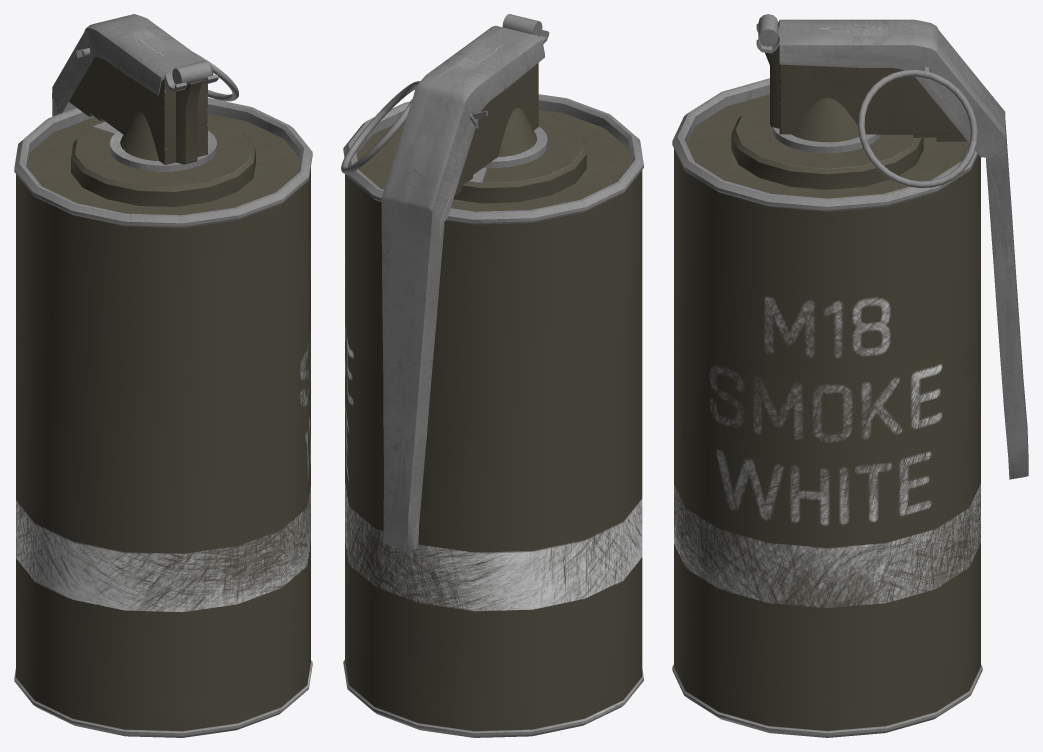
Rendered from smoke_grenade.glb.
3 views of the same model, side by side, from view 1: azimuth 30°, elevation 25°; view 2: azimuth 150°, elevation 25°; view 3: azimuth 270°, elevation 25° (orthographic). The views are drawn at different scales.
Visible parts, largest first — view 1: SmokeGrenade, Pin.001; view 2: SmokeGrenade, Pin.001; view 3: SmokeGrenade, Pin.001.
Boxes of the visible parts, box(x1,y1,x2,y2) form: SmokeGrenade: box(14, 14, 312, 737); Pin.001: box(74, 48, 238, 101); SmokeGrenade: box(343, 14, 643, 737); Pin.001: box(341, 81, 487, 174); SmokeGrenade: box(672, 14, 1028, 737); Pin.001: box(858, 67, 977, 187).
Size of the model in its own units: 0.0653 by 0.1513 by 0.0749.
1 material, 1 textured.
